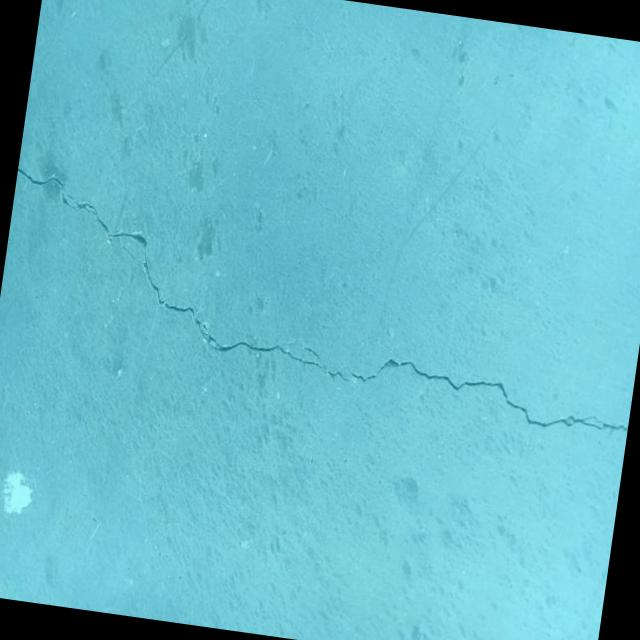crack: (0, 166, 640, 439)
